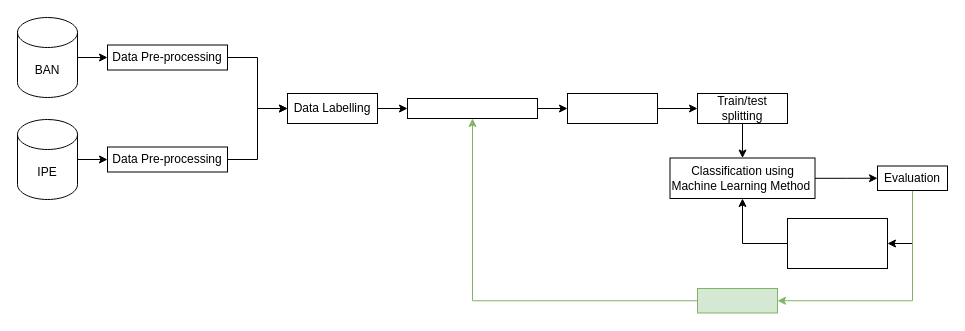
The diagram is 965 pixels wide and 331 high, and some of its shapes have lost their labels. The shapes that lost their labels are listed below. From the top down, each one's box as (x1, y1, x2, y2) in pixels, then its label:
(406, 98, 538, 118): Indexing, blocking
(566, 92, 658, 124): Record pair comparison
(786, 218, 888, 268): Using different classification algorithms
(696, 288, 778, 313): Tuning block
